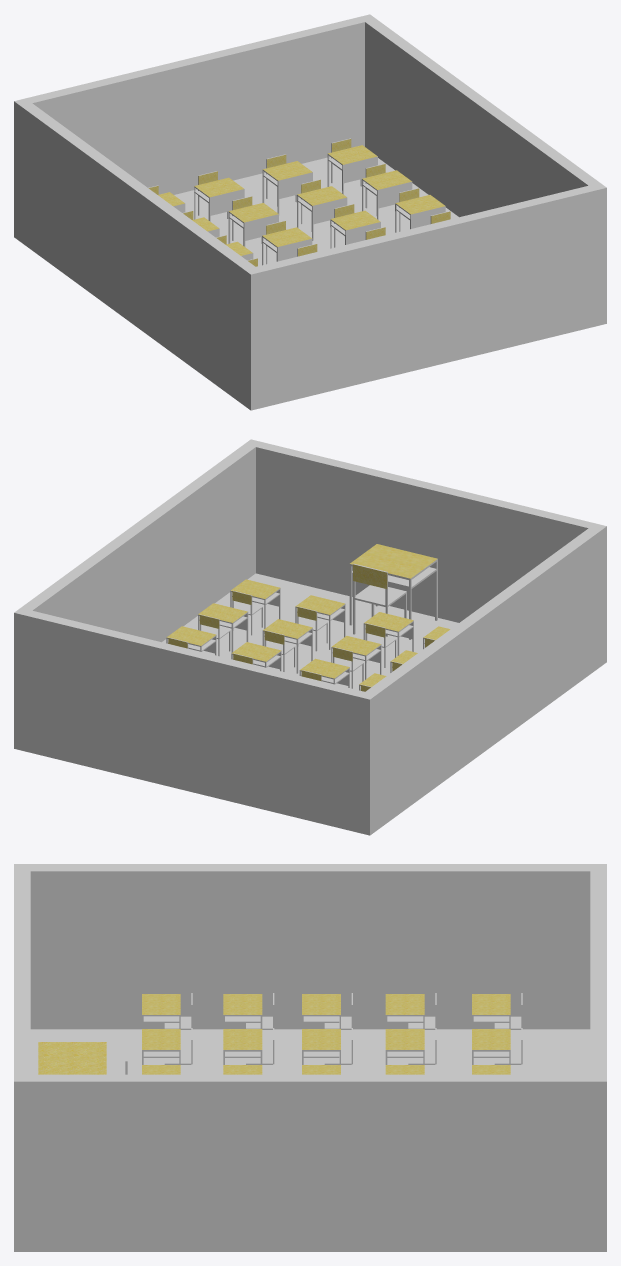
The model's file is class.FBX.
3 views of the same model, one above another, from view 1: azimuth 30°, elevation 25°; view 2: azimuth 150°, elevation 25°; view 3: azimuth 270°, elevation 25° (orthographic). The views are drawn at different scales.
Parts seen in each view (by area): view 1: Layer0_001, Object030, Object031, Object026, Object029, Object025, Object024, Object020, Object019, Object021; view 2: Layer0_001, Object032, Object010, Object015, Object016, Object009, Object011, Object014, Object020, Object021, Object019; view 3: Layer0_001, Object032, Object023, Object013, Object022, Object012, Object008, Object018, Object028, Object007, Object027, Object017.
Part boxes in pixels (left/top/right/bottom): Layer0_001: left=14, top=14, right=606, bottom=410; Object030: left=262, top=154, right=312, bottom=215; Object031: left=327, top=138, right=377, bottom=194; Object026: left=362, top=163, right=412, bottom=219; Object029: left=194, top=171, right=244, bottom=221; Object025: left=297, top=179, right=347, bottom=240; Object024: left=228, top=196, right=278, bottom=246; Object020: left=330, top=204, right=380, bottom=248; Object019: left=262, top=220, right=312, bottom=265; Object021: left=395, top=188, right=445, bottom=232; Layer0_001: left=14, top=439, right=606, bottom=835; Object032: left=349, top=544, right=437, bottom=639; Object010: left=295, top=595, right=345, bottom=651; Object015: left=262, top=619, right=312, bottom=673; Object016: left=198, top=603, right=248, bottom=656; Object009: left=363, top=612, right=413, bottom=667; Object011: left=230, top=579, right=280, bottom=635; Object014: left=331, top=636, right=381, bottom=688; Object020: left=231, top=642, right=281, bottom=671; Object021: left=166, top=626, right=216, bottom=655; Object019: left=299, top=658, right=349, bottom=687; Layer0_001: left=14, top=864, right=606, bottom=1251; Object032: left=38, top=1040, right=127, bottom=1074; Object023: left=385, top=1028, right=436, bottom=1064; Object013: left=223, top=1028, right=274, bottom=1064; Object022: left=385, top=993, right=436, bottom=1029; Object012: left=223, top=993, right=274, bottom=1029; Object008: left=142, top=1028, right=192, bottom=1064; Object018: left=302, top=1028, right=352, bottom=1064; Object028: left=472, top=1028, right=522, bottom=1064; Object007: left=142, top=993, right=192, bottom=1029; Object027: left=472, top=993, right=522, bottom=1029; Object017: left=302, top=993, right=352, bottom=1029.
Size of the model in its own units: 767 by 280 by 884.
